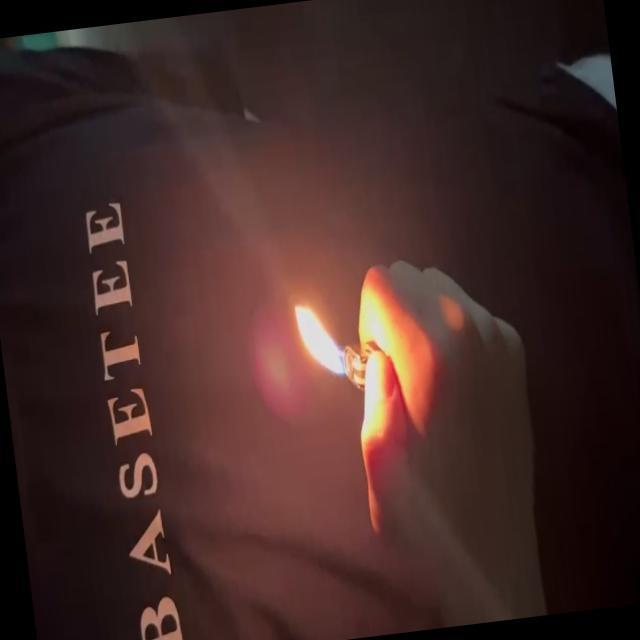Fire: (292, 295, 351, 379)
